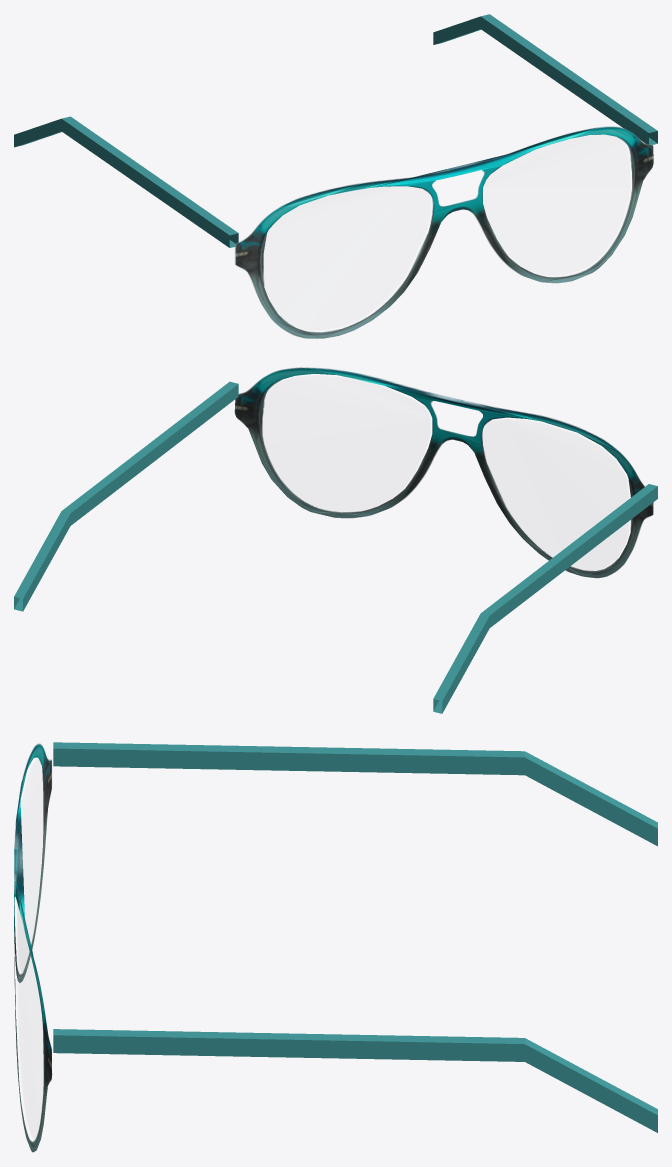
Rendered from leon-max-4038_teal-fade.glb.
The picture shows the model from 3 angles, top to bottom: view 1: azimuth 30°, elevation 25°; view 2: azimuth 150°, elevation 25°; view 3: azimuth 270°, elevation 25°; orthographic projection. The views are drawn at different scales.
Parts seen in each view (by area): view 1: frame_front, temple_viewer_left, temple_viewer_right; view 2: frame_front, temple_viewer_right, temple_viewer_left; view 3: temple_viewer_right, temple_viewer_left, frame_front.
Part boxes in pixels (x1,y1,x2,y2): frame_front: (235, 126, 653, 338); temple_viewer_left: (14, 116, 238, 247); temple_viewer_right: (433, 14, 657, 144); frame_front: (234, 367, 653, 578); temple_viewer_right: (14, 381, 238, 611); temple_viewer_left: (433, 484, 657, 713); temple_viewer_right: (53, 1029, 657, 1132); temple_viewer_left: (53, 742, 657, 846); frame_front: (14, 743, 52, 1152).
Size of the model in its own units: 0.141 by 0.0477 by 0.131.
Materials: 3 (2 with a texture image).
